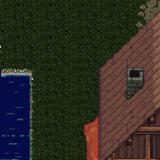Interaction: (23, 84, 47, 160), (0, 60, 47, 83)
Obstacle: (64, 69, 160, 160)
Slow: (0, 76, 27, 160)
